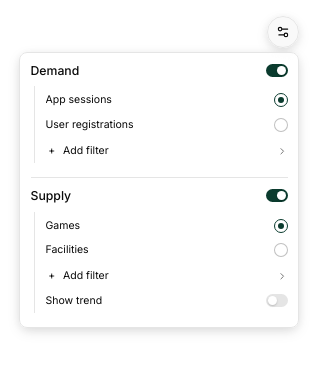
Test: selects one demand metric behind the demographic flag and resets it
The width and height of the screenshot is (320, 380).
Expected: the radio button labelled "App sessions" is checked, [46, 93, 288, 107]
Click the radio button labelled "User registrations" at (90, 124), box [46, 118, 288, 132]
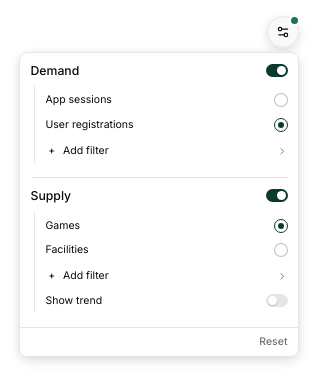
Result: the radio button labelled "User registrations" is checked at [46, 118, 288, 132]
Click the switch named "User registrations" at (276, 70), box [266, 64, 288, 77]
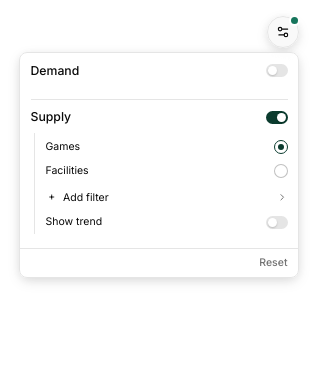
Result: the text "App sessions User registrations" is gone
Click the switch named "User registrations" at (276, 70), box [266, 64, 288, 77]
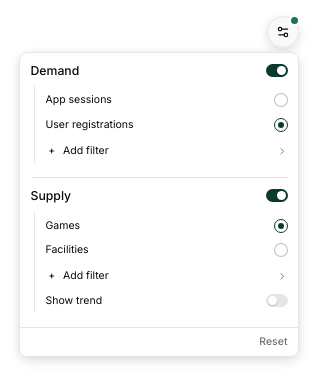
Click the button "Reset" at (273, 342), box [252, 332, 294, 352]
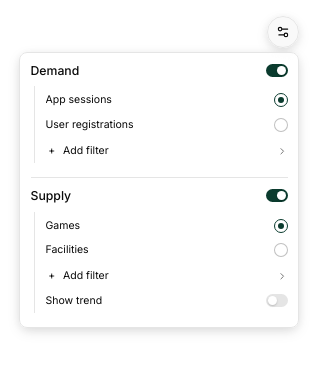
Result: the radio button labelled "App sessions" is checked at [46, 93, 288, 107]
